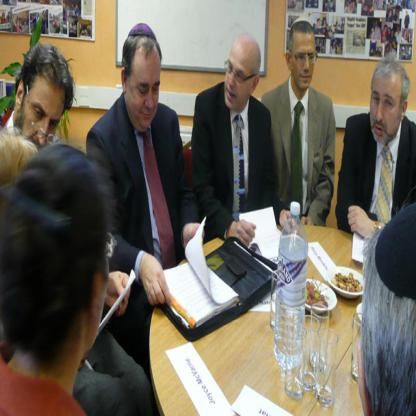face: (15, 85, 60, 169), (131, 62, 161, 129), (370, 82, 399, 145), (224, 55, 251, 109), (294, 34, 318, 91)
